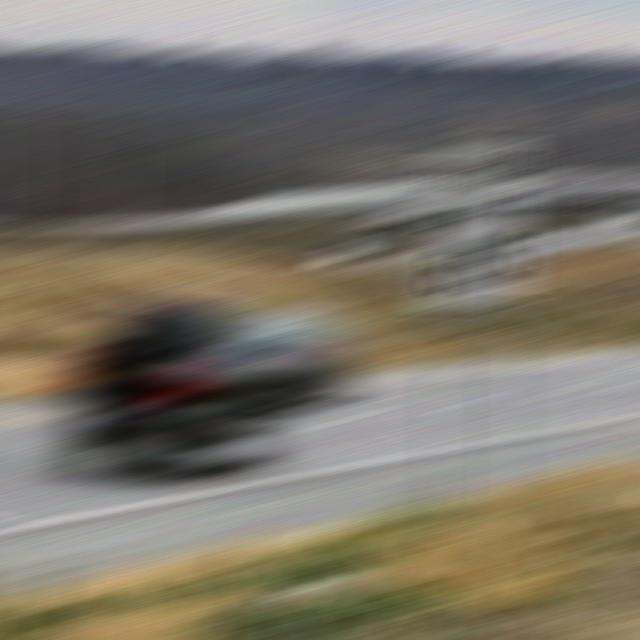speedLimit85: (417, 132, 526, 309)
